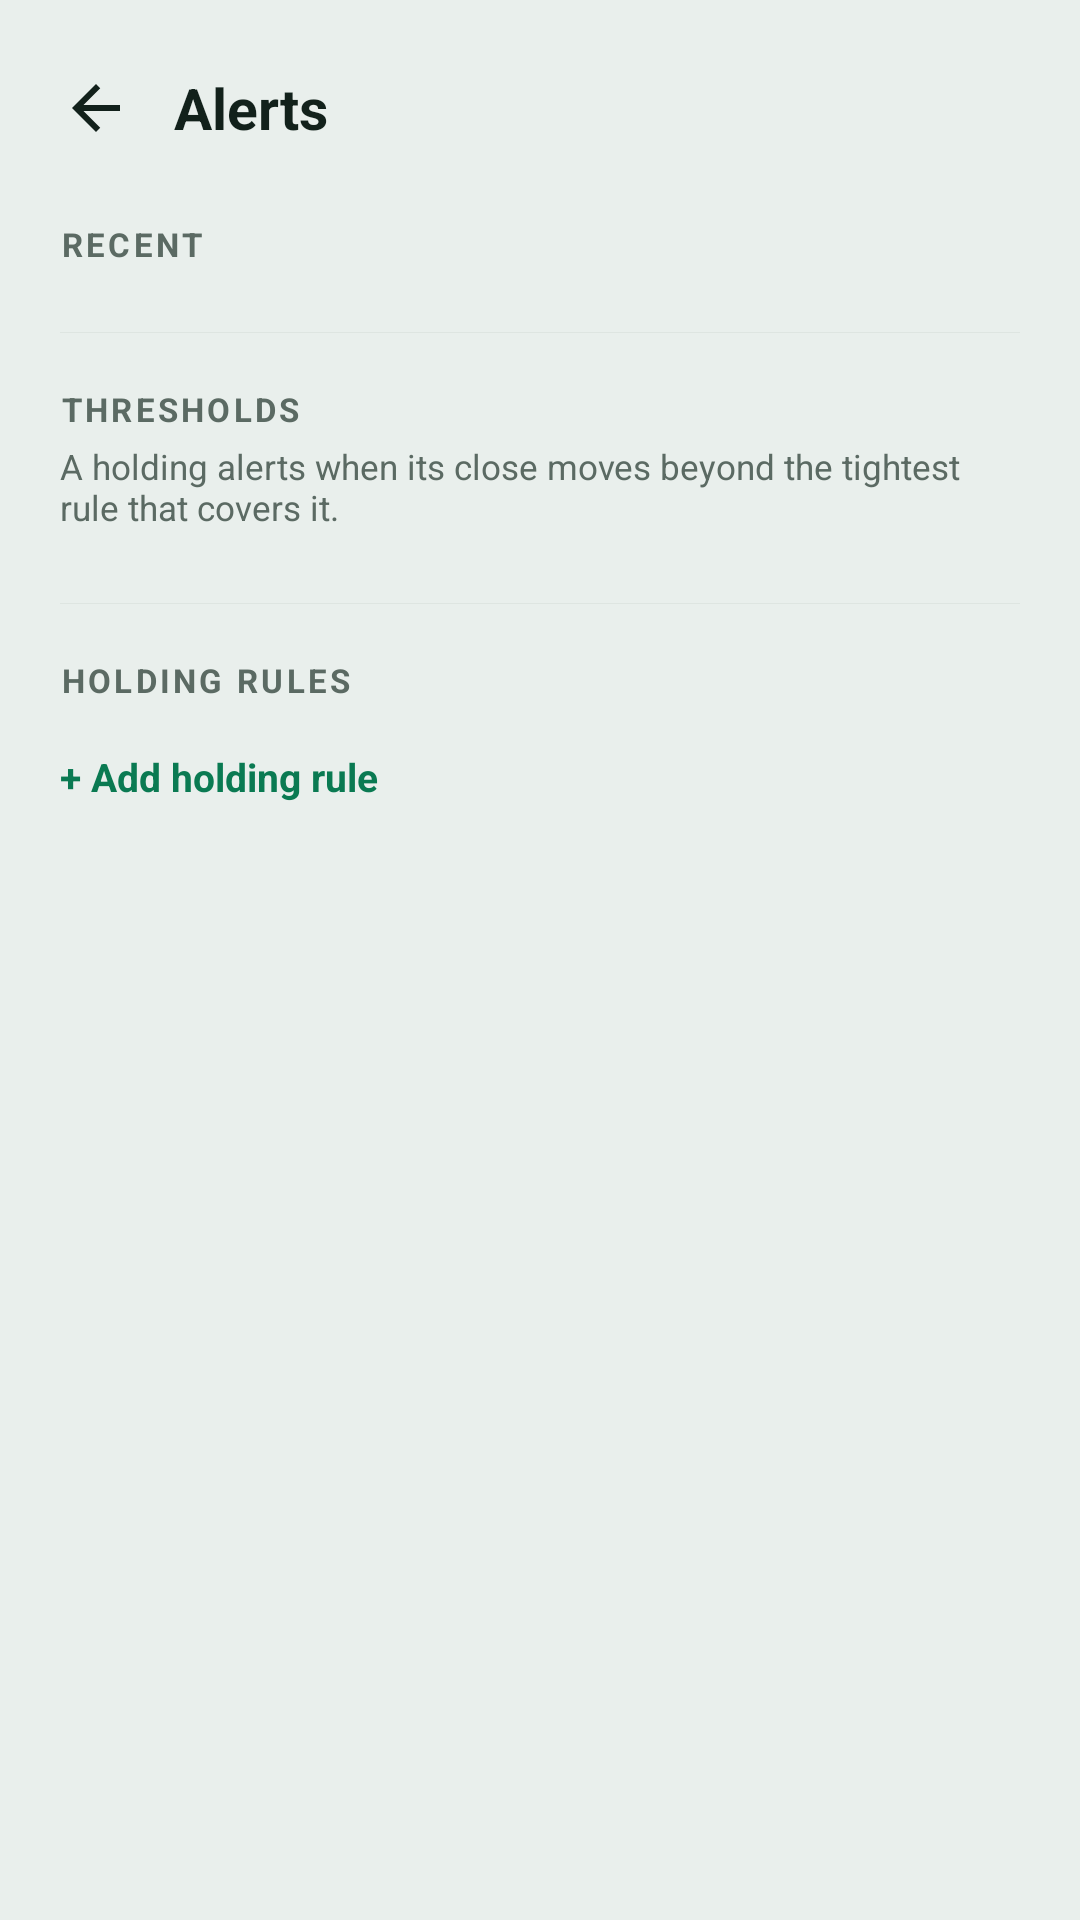

Icon bounding boxes for this 1080 x 1920 phone screenshot, format {"x1": x1, "y1": y1, "x2": x2, "y2": y2}:
Back: {"x1": 72, "y1": 84, "x2": 120, "y2": 132}
